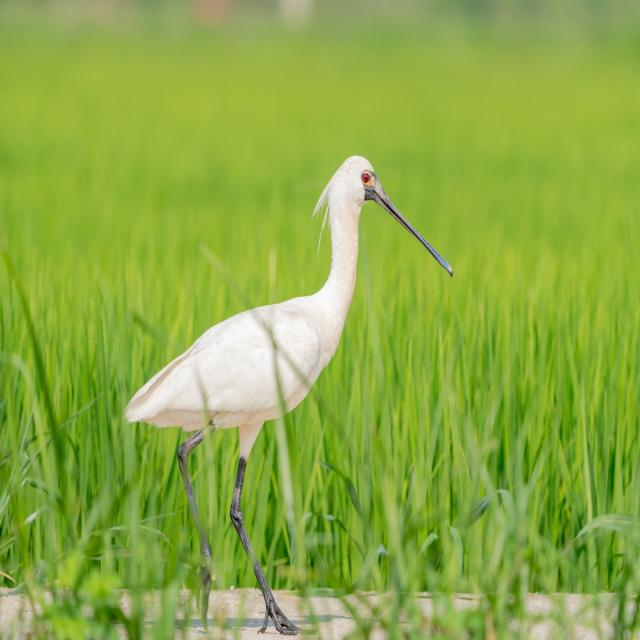Black-faced spoonbill: (126, 157, 452, 634)
